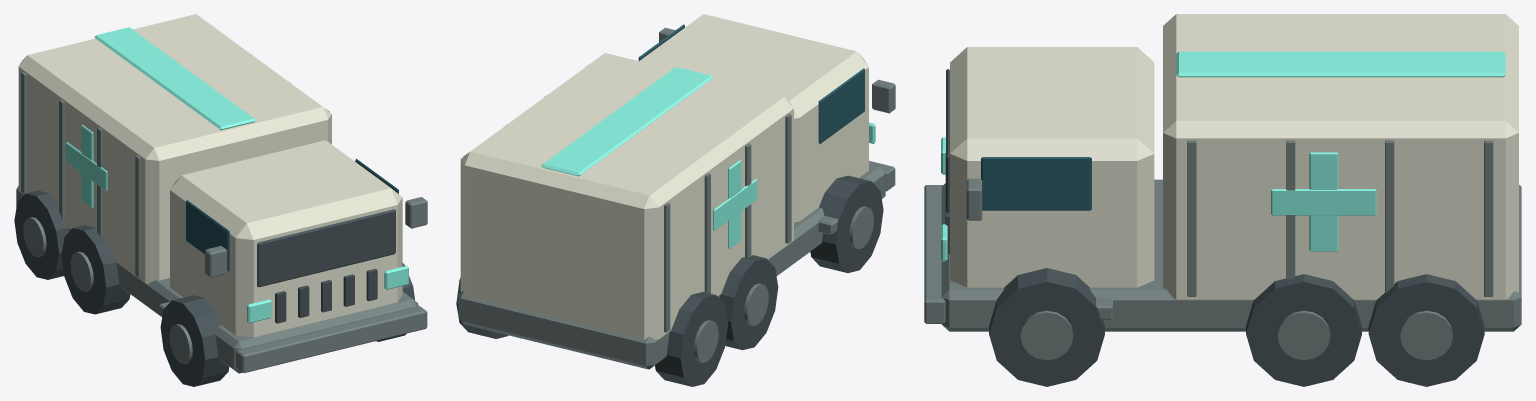
The model's file is transport.glb.
3 renders of one model, left to right at view 1: azimuth 30°, elevation 25°; view 2: azimuth 150°, elevation 25°; view 3: azimuth 270°, elevation 25°, orthographic. The views are drawn at different scales.
Visible parts, largest first — view 1: Cargo, Cab, Windshield, RescueStripe, Detail bumper, Chassis, Wheel, Wheel.001, Wheel.002, Detail side window, CrossH, CrossV (+15 smaller); view 2: Cargo, Cab, Chassis, RescueStripe, Wheel, Wheel.002, Wheel.001, Detail side window, CrossH, Detail cargo rib.003, Detail cargo rib, CrossV (+7 smaller); view 3: Cargo, Cab, Chassis, RescueStripe, Wheel.003, Wheel.005, Wheel.004, Detail side window.001, CrossH.001, Detail bumper, CrossV.001, Detail wheel hub.004 (+8 smaller).
Boxes of the visible parts, box(x1,y1,x2,y2) form: Cargo: box(18, 14, 331, 284); Cab: box(170, 140, 402, 337); Windshield: box(257, 209, 395, 287); RescueStripe: box(94, 27, 255, 130); Detail bumper: box(236, 306, 427, 372); Chassis: box(16, 186, 418, 373); Wheel: box(160, 295, 229, 386); Wheel.001: box(61, 225, 130, 314); Wheel.002: box(14, 190, 69, 279); Detail side window: box(186, 200, 229, 271); CrossH: box(66, 142, 107, 190); CrossV: box(81, 124, 93, 208); Cargo: box(460, 53, 793, 340); Cab: box(639, 14, 868, 222); Chassis: box(458, 163, 885, 369); RescueStripe: box(541, 67, 712, 176); Wheel: box(810, 175, 883, 272); Wheel.002: box(655, 292, 727, 386); Wheel.001: box(719, 255, 778, 350); Detail side window: box(818, 68, 864, 143); CrossH: box(713, 178, 757, 230); Detail cargo rib.003: box(664, 202, 670, 332); Detail cargo rib: box(785, 114, 791, 243); CrossV: box(728, 160, 741, 248); Cargo: box(1163, 14, 1518, 300); Cab: box(950, 47, 1154, 287); Chassis: box(941, 179, 1521, 331); RescueStripe: box(1176, 51, 1505, 77); Wheel.003: box(989, 268, 1104, 386); Wheel.005: box(1368, 274, 1484, 386); Wheel.004: box(1246, 274, 1361, 386); Detail side window.001: box(981, 157, 1091, 210); CrossH.001: box(1271, 189, 1376, 215); Detail bumper: box(924, 185, 945, 323); CrossV.001: box(1309, 152, 1338, 251); Detail wheel hub.004: box(1277, 310, 1330, 360).
Bounding box in the file's own units: 2.48 × 2.16 × 4.53.
